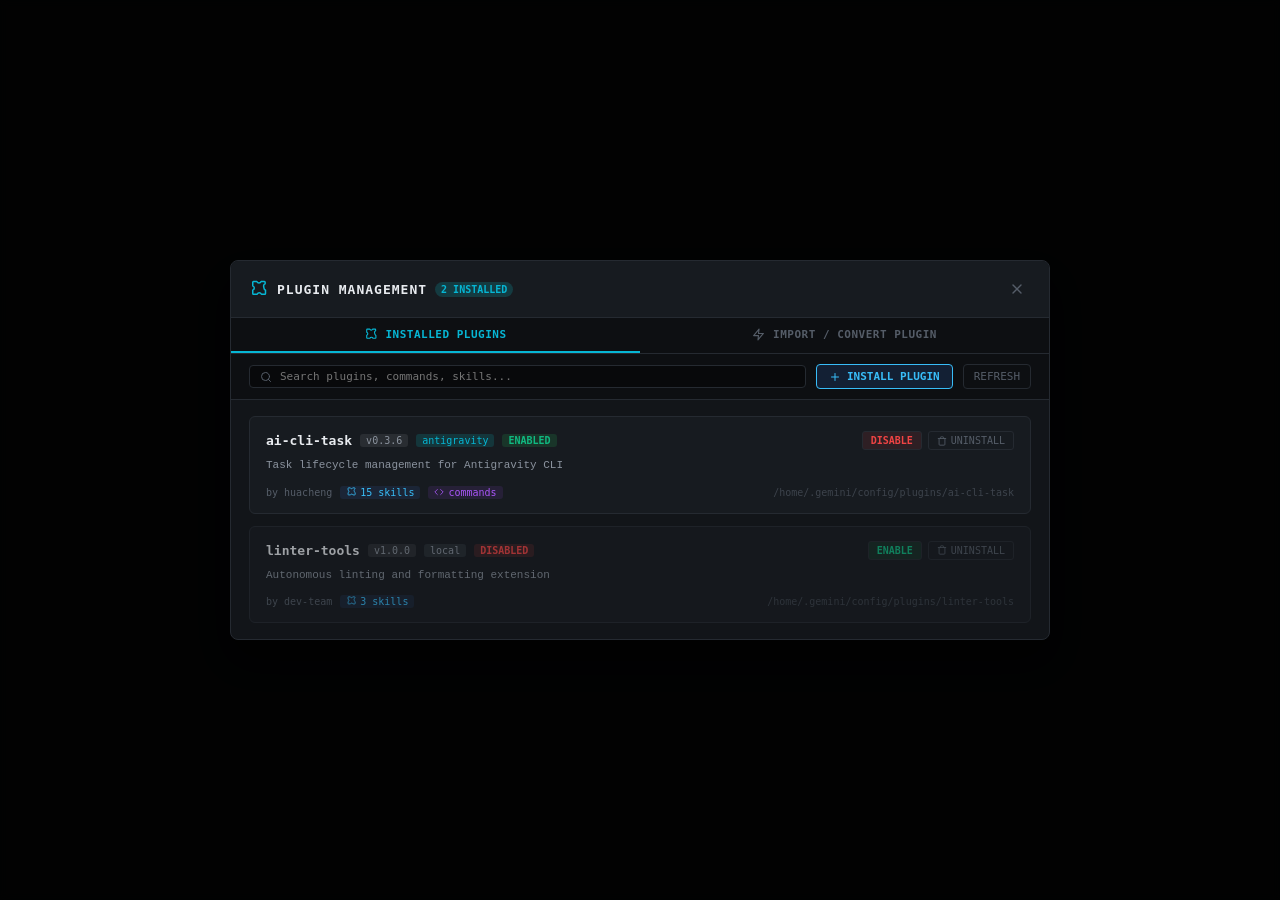
it: PluginsModal › installs a new plugin via install form
Expected: the text "INSTALL PLUGIN" is shown, [847,370,940,383]
# Open install card
Step 1. Click the button "INSTALL PLUGIN" → click(884, 377), box [816,364,953,389]
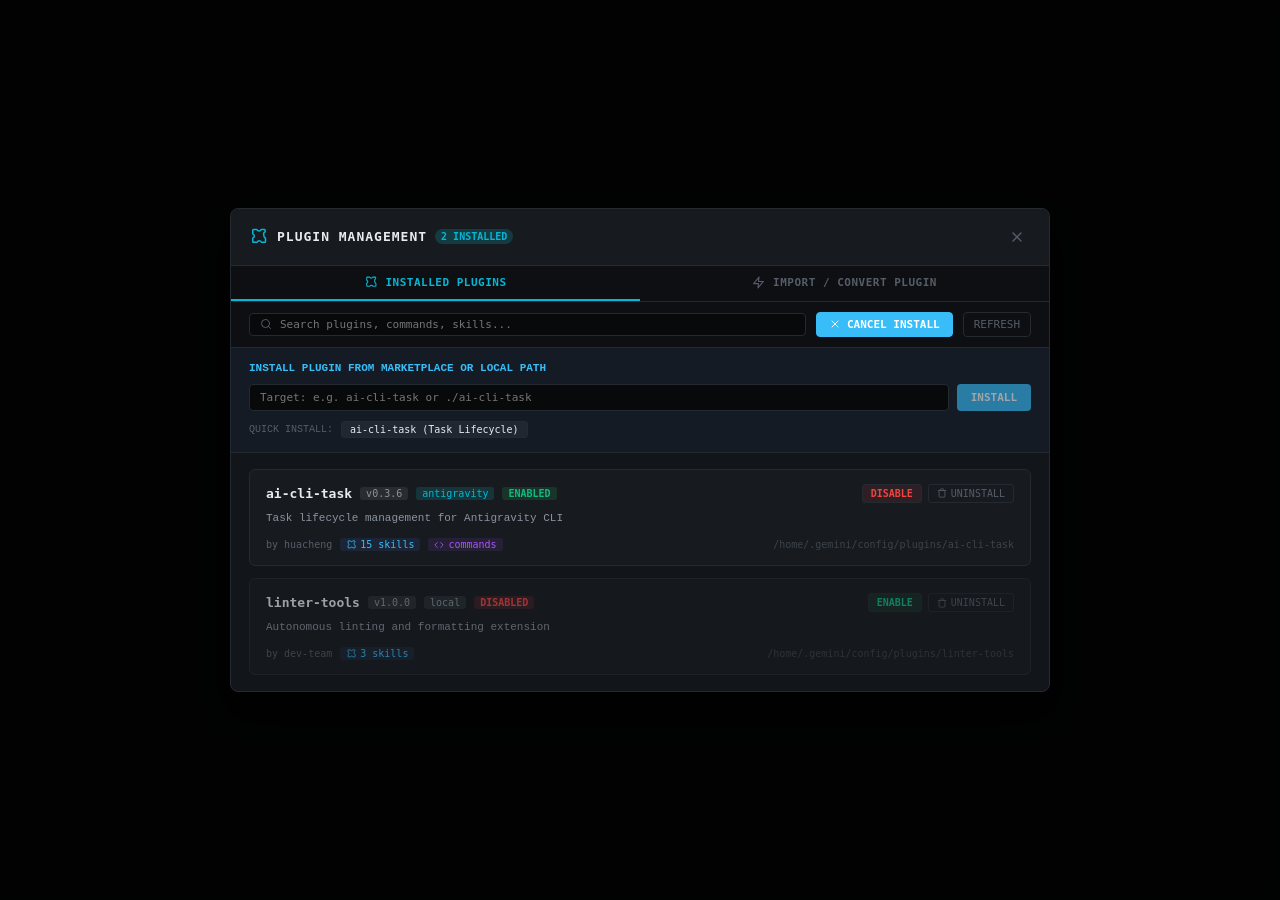
Step 2. Type "new-plugin" into the field with placeholder "Target: e.g. ai-cli-task or ./ai-cli-task" → (599, 397), box [249,384,949,411]
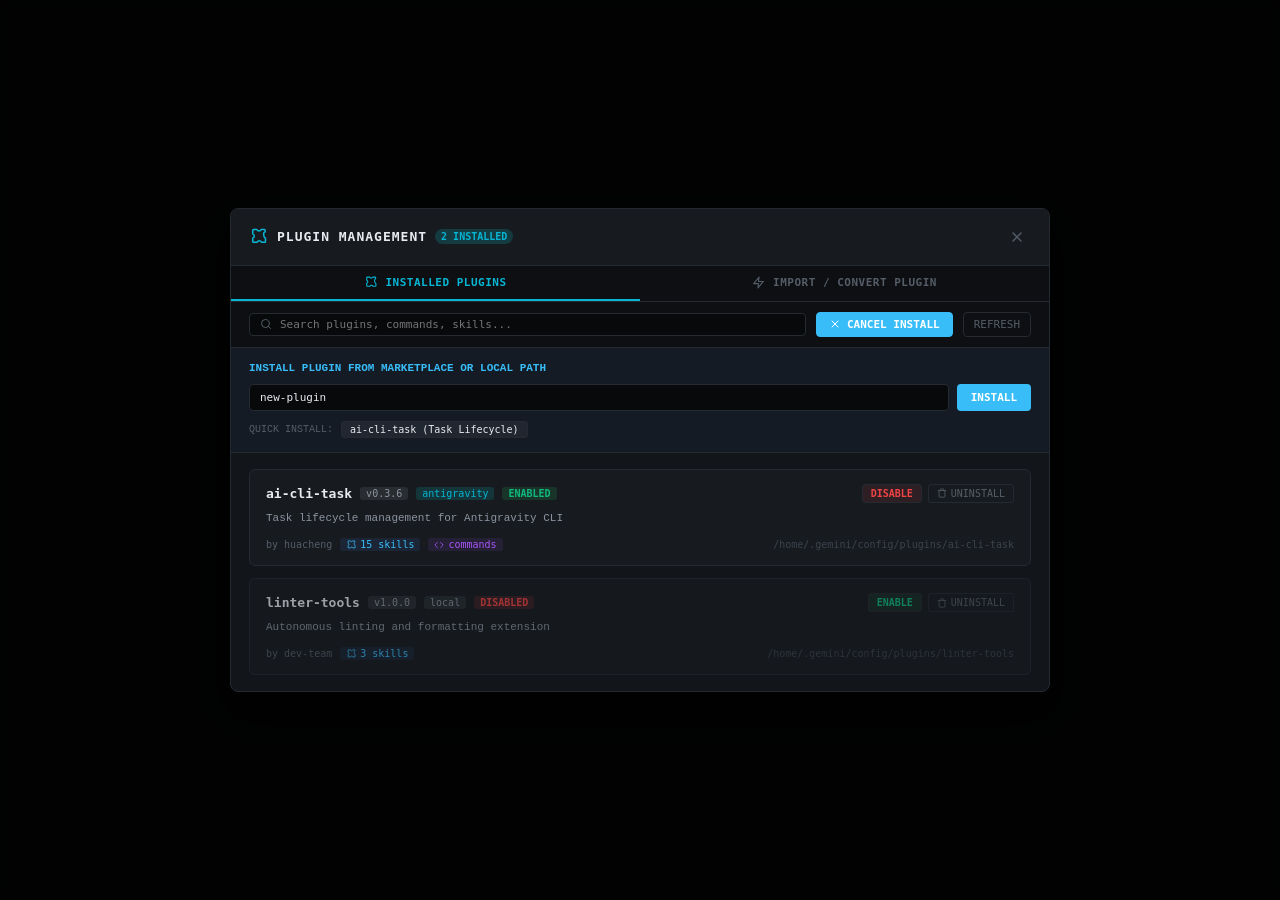
Step 3. Click the button "INSTALL" → click(994, 397), box [957,384,1031,411]
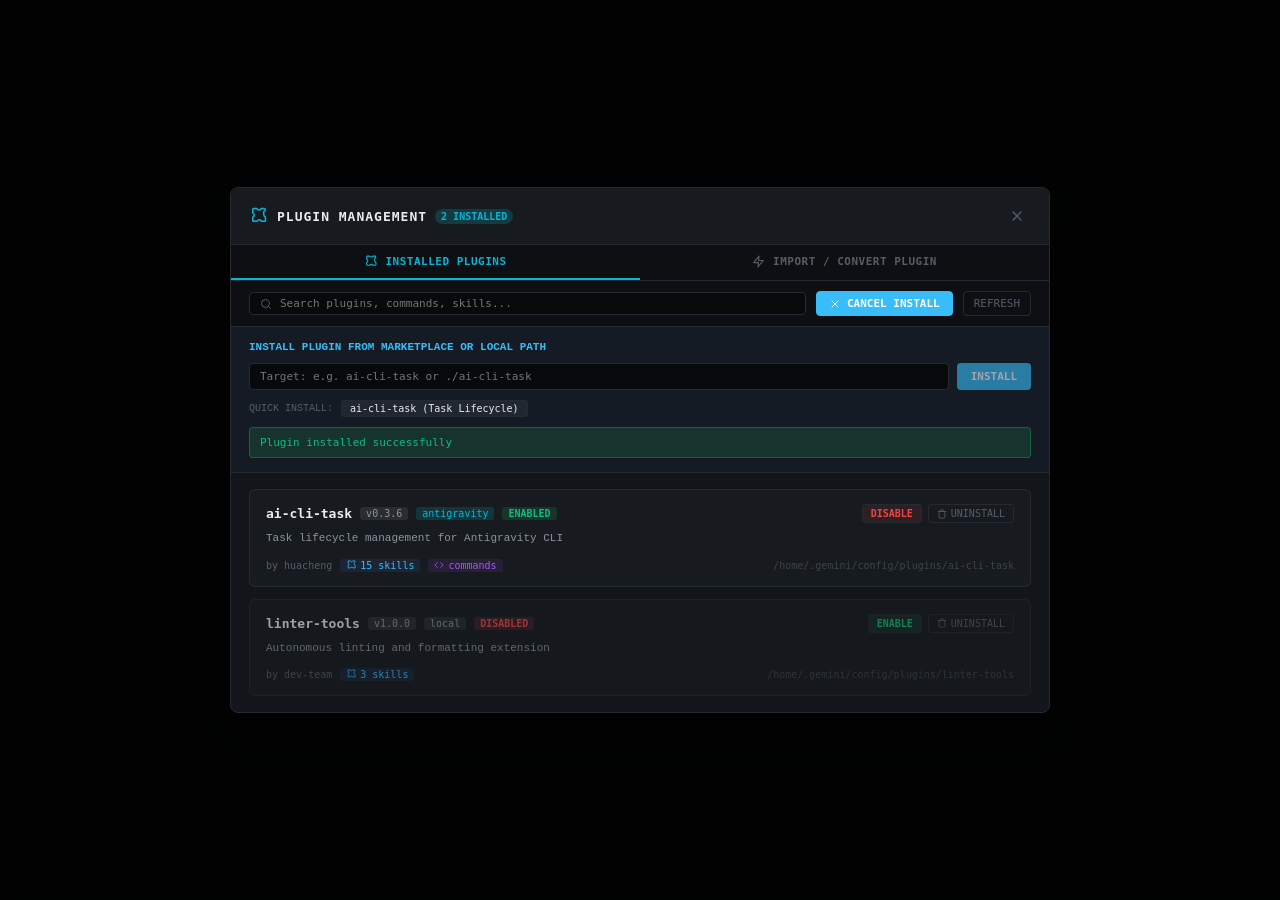
Result: the text "Plugin installed successfully" is shown at [249,427,1031,458]
